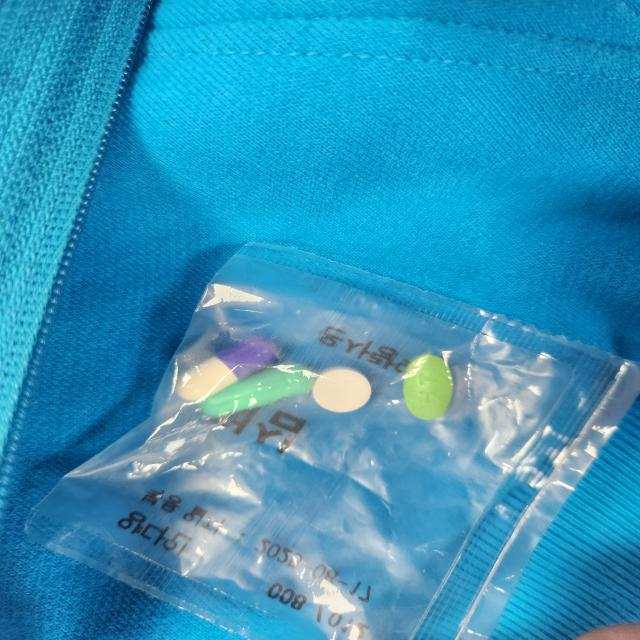러키펜정: (313, 368, 374, 415)
씨엠지세파클러캡슐: (177, 341, 280, 405)
에르도캡슐: (199, 360, 317, 417)
휴티렌정: (400, 351, 459, 424)
